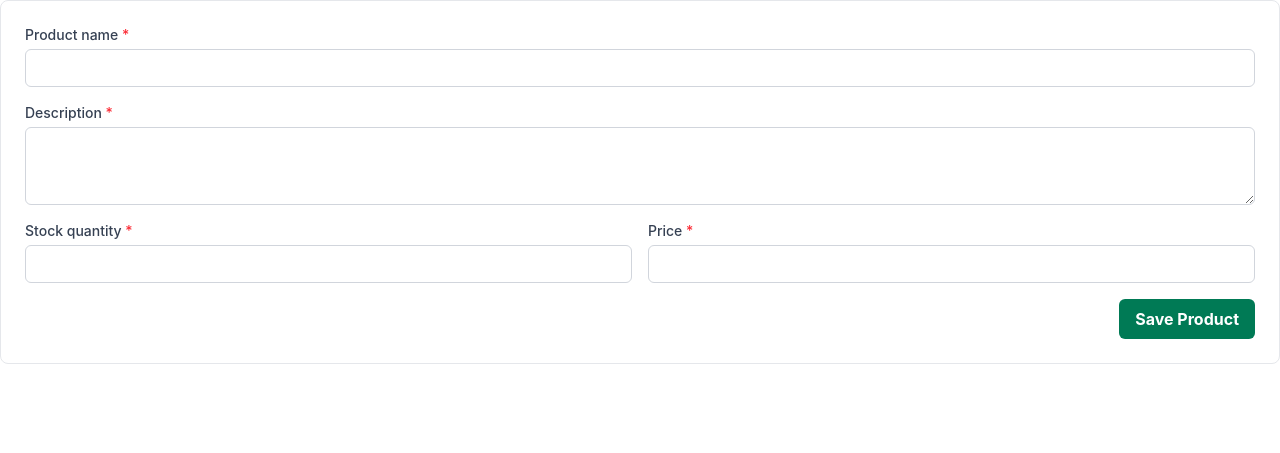
Test: ProductForm.vue › shows error if stock exceeds limit
Type "2147483648" into the number field labelled "Stock quantity *". click: (328, 264)
box: [25, 245, 632, 283]
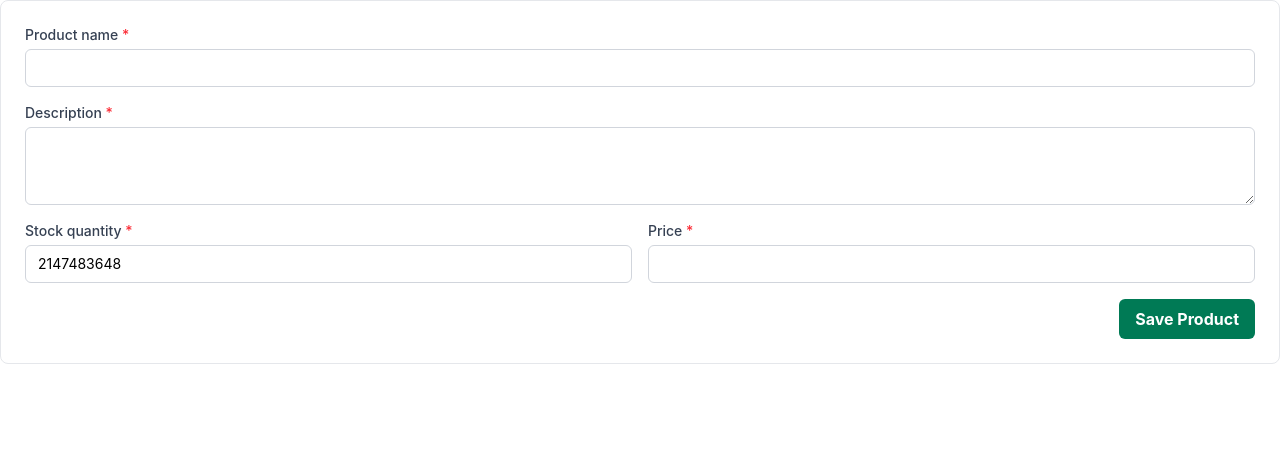
Submit the form
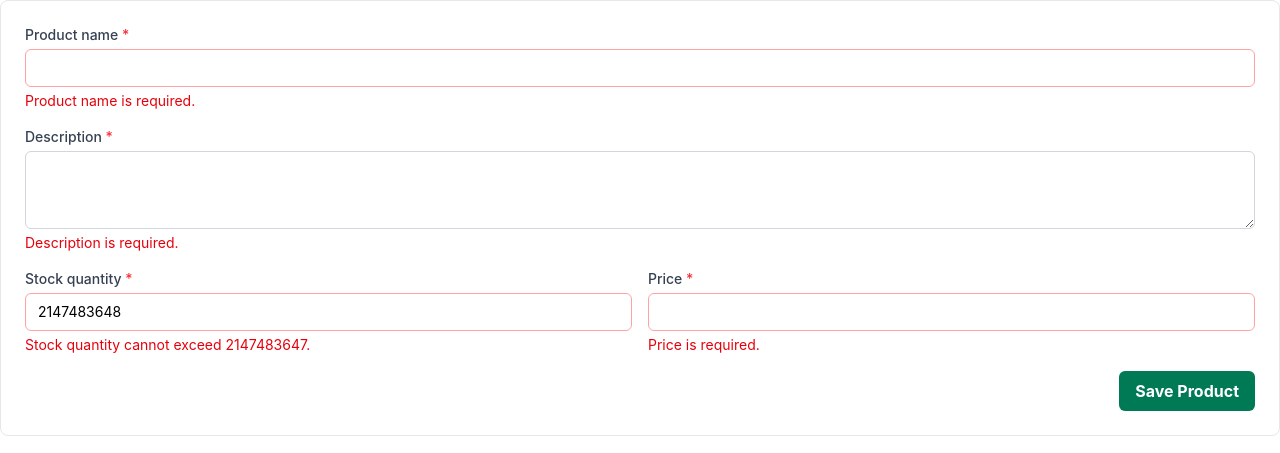
Result: the form shows "Stock quantity cannot exceed 2147483647." at [25, 336, 310, 353]
